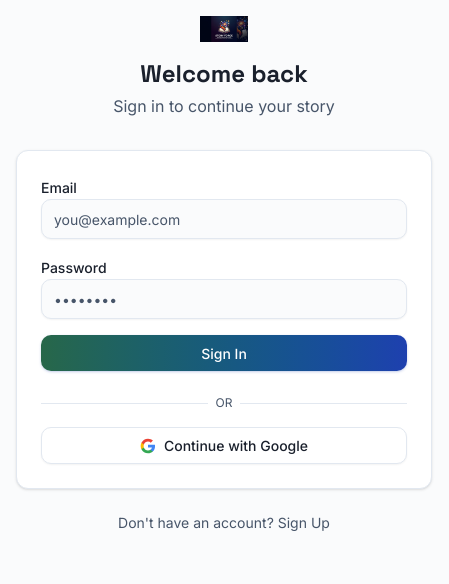
SignInPage › shows error message on failed sign-in
The width and height of the screenshot is (449, 584).
In the field with placeholder "you@example.com": (224, 219) left=41, top=199, right=407, bottom=239, type "fail@test.com"
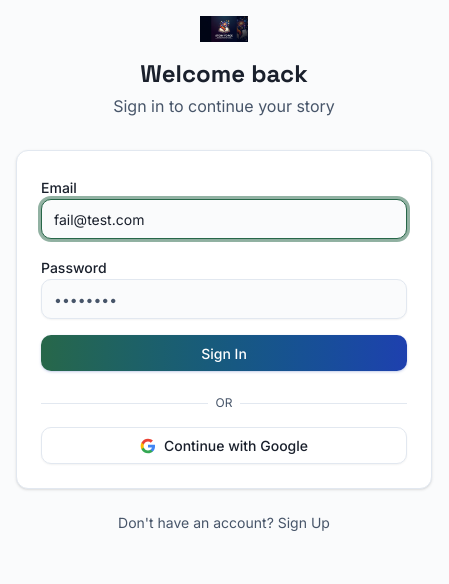
In the password field with placeholder "••••••••": (224, 299) left=41, top=279, right=407, bottom=319, type "wrongpass"
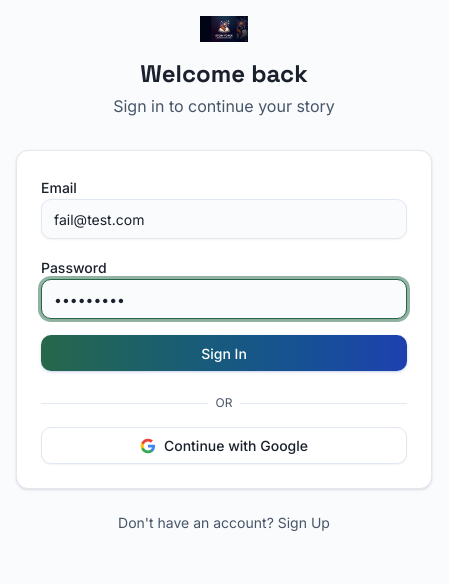
Click the button "Sign In": (224, 353) left=41, top=335, right=407, bottom=371
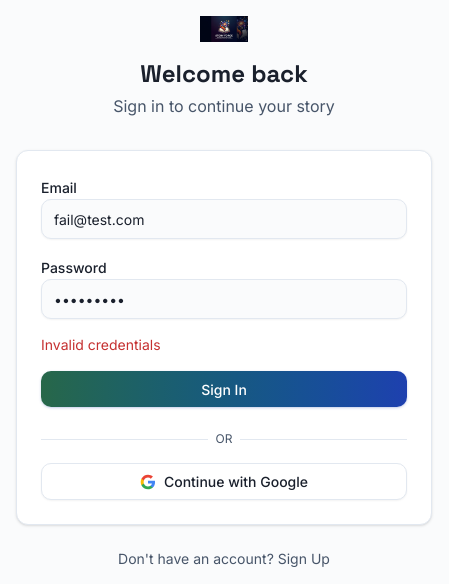
Expected: the text "Invalid credentials" is shown, left=41, top=336, right=161, bottom=353
